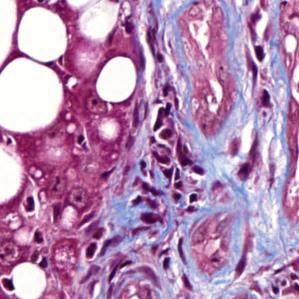steatosis: (18, 6, 70, 62), (96, 52, 141, 104)
